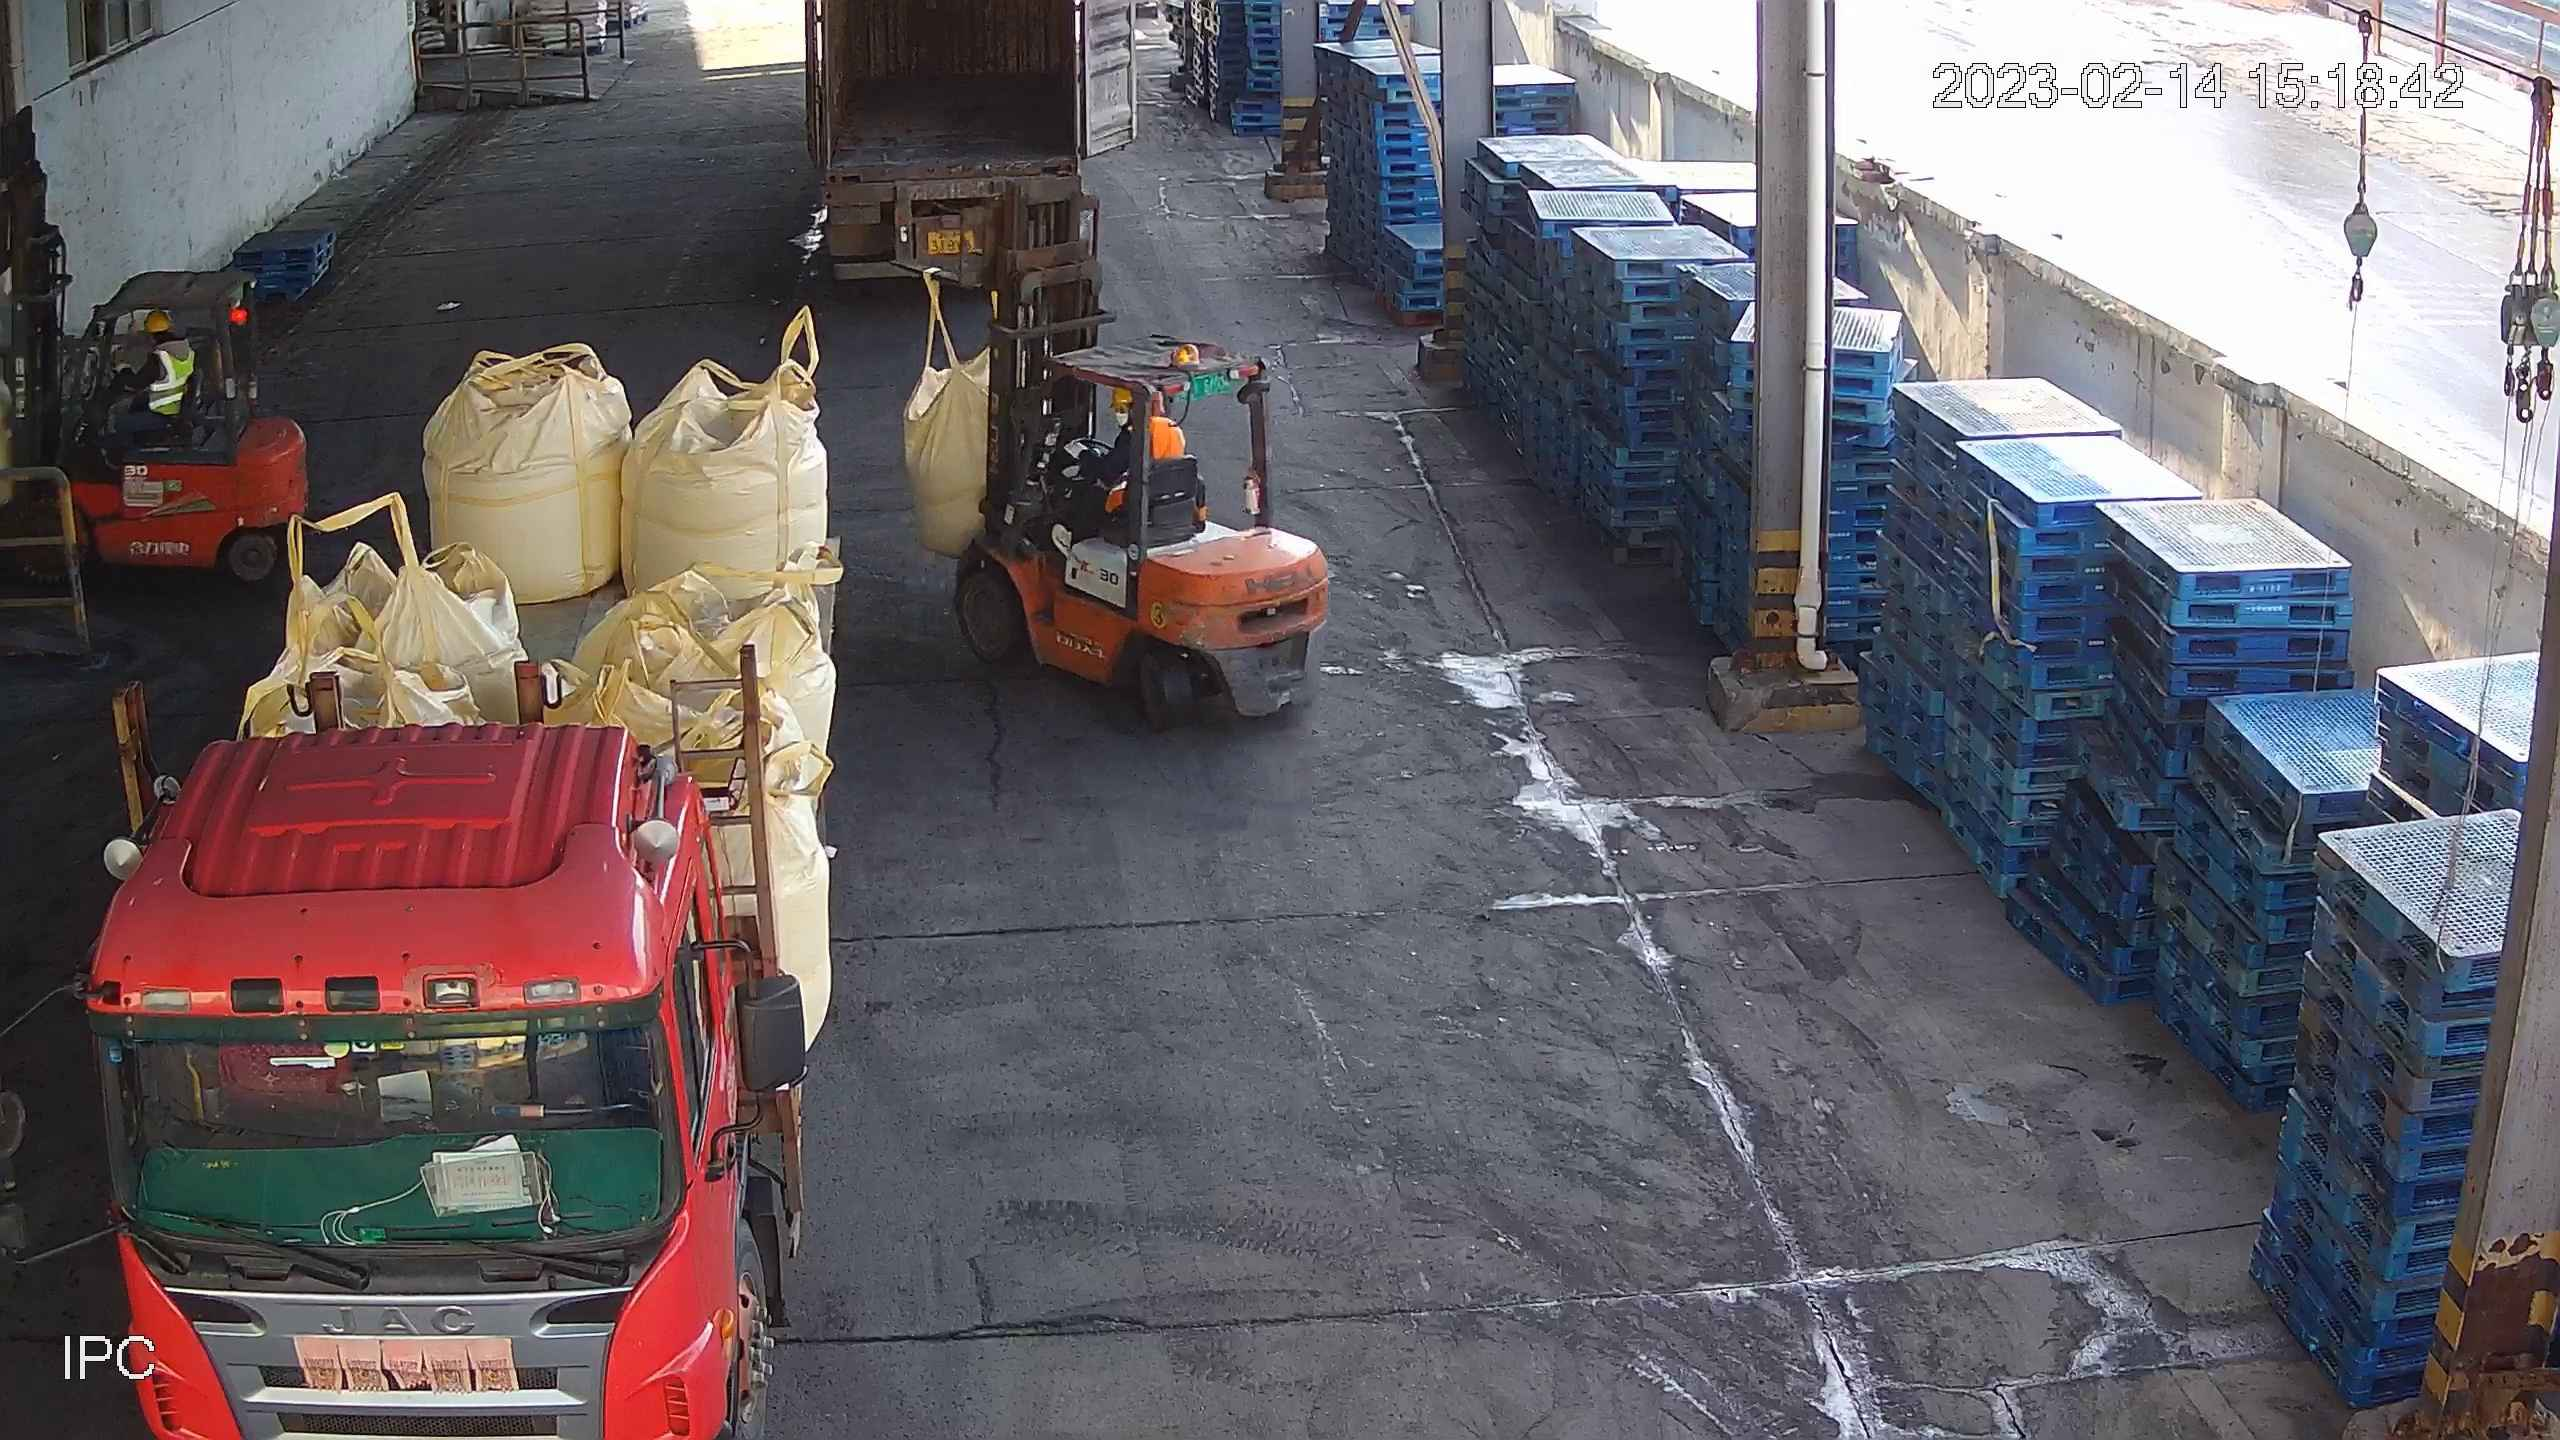head: (142, 310, 195, 370)
helmet: (143, 311, 173, 332), (1109, 385, 1134, 409)
people: (101, 310, 195, 468)
truck: (2, 537, 839, 1440), (805, 3, 1142, 282)
